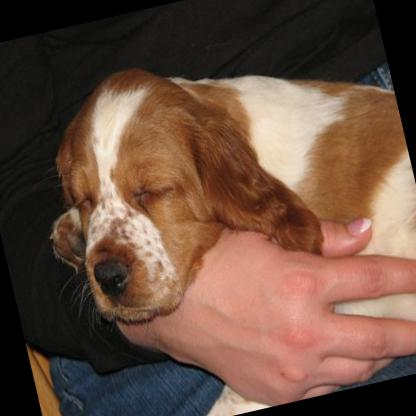Welsh_springer_spaniel: (16, 10, 416, 416)
